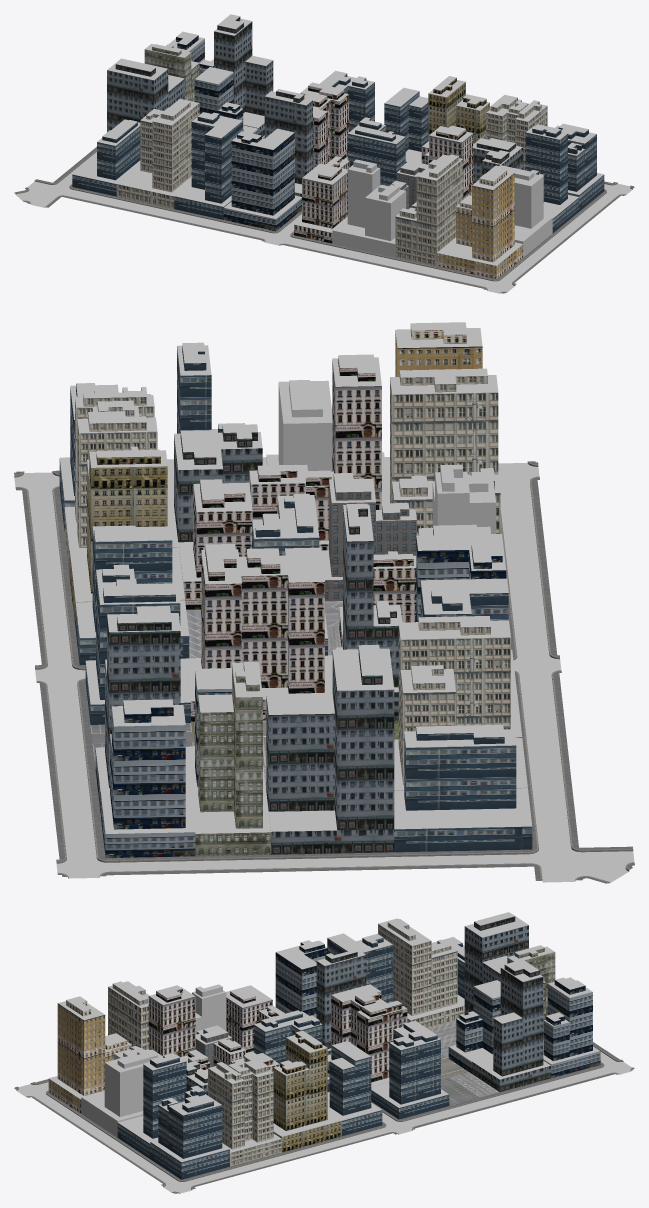
File: my_city_0.fbx
3 renders of one model, top to bottom at view 1: azimuth 30°, elevation 25°; view 2: azimuth 150°, elevation 25°; view 3: azimuth 270°, elevation 25°, orthographic. The views are drawn at different scales.
Parts seen in each view (by area): view 1: FacadeTexture (×10), FlatRoofTexture (×10), Street, Pavement, Curbs, Concrete; view 2: FacadeTexture (×10), FlatRoofTexture (×10), Street, Pavement, Concrete, Curbs; view 3: FacadeTexture (×10), FlatRoofTexture (×10), Street, Pavement, Curbs, ParkingLot (×2), Concrete.
Part boxes in pixels (x1,y1,x2,y2): FacadeTexture (×10): (72,16,604,279); FlatRoofTexture (×10): (73,14,603,265); Street: (58,152,616,286); Pavement: (14,147,634,293); Curbs: (15,150,632,293); Concrete: (15,181,632,293); FacadeTexture (×10): (59,324,532,858); FlatRoofTexture (×10): (59,322,532,833); Street: (28,482,570,871); Pavement: (14,461,634,883); Concrete: (14,463,634,882); Curbs: (14,461,634,883); FacadeTexture (×10): (48,916,600,1179); FlatRoofTexture (×10): (49,912,599,1162); Street: (36,1052,614,1185); Pavement: (14,1042,634,1193); Curbs: (16,1045,632,1193); ParkingLot (×2): (441,1072,499,1105); Concrete: (16,1061,631,1193).
Bounding box in the file's own units: 291 × 60.97 × 316.
